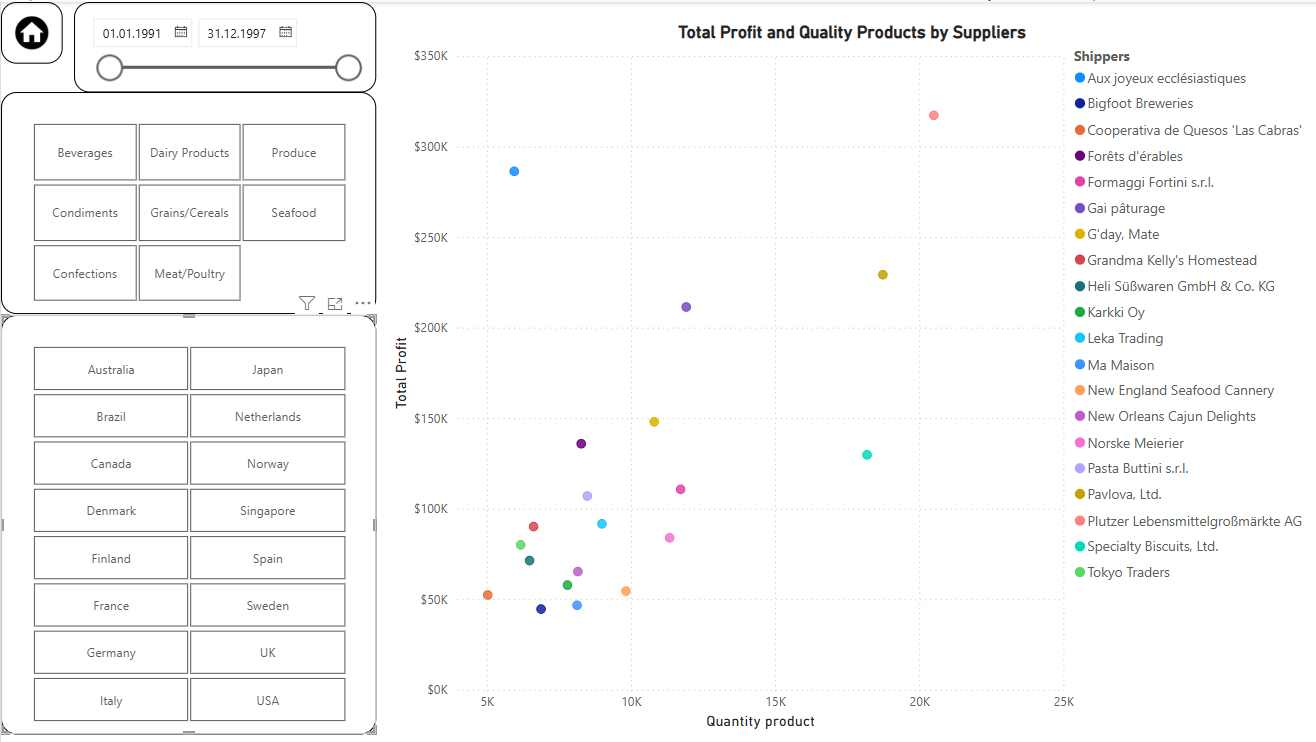

The page's visual inventory and layout, read from the dashboard file:
{"tool":"powerbi","page":{"name":"Suppliers Overview","canvas":[1280,720],"ordinal":7},"visuals":[{"type":"slicer","fields":{"Values":["Calendar.Date"]},"box":[71,0,293.7,87.5],"z":0},{"type":"slicer","fields":{"Values":["categories.category_name"]},"box":[0,87.6,364.8,216.4],"z":1000},{"type":"slicer","fields":{"Values":["suppliers.country"]},"box":[0,304,364.8,408.1],"z":2000},{"type":"scatterChart","title":"Total Profit and Quality Products by Suppliers","fields":{"Series":["suppliers.company_name"],"Y":["Nw_orders_derails_total.Total_Profit"],"X":["Nw_orders_derails_total.Sum_quantity"]},"box":[375.1,19.6,904.9,692.6],"z":3000},{"type":"image","box":[0,0,60.3,60.3],"z":4000}]}

Visuals, with their boxes on the page's 1280x720 design canvas (x1, y1, x2, y2). These are canvas units, not pixel positions in the 1316x742 screenshot, which may show the page scaled, cropped or inside an application window:
slicer - Calendar.Date: x1=71 y1=0 x2=365 y2=88
slicer - categories.category_name: x1=0 y1=88 x2=365 y2=304
slicer - suppliers.country: x1=0 y1=304 x2=365 y2=712
"Total Profit and Quality Products by Suppliers" scatterChart: x1=375 y1=20 x2=1280 y2=712
image: x1=0 y1=0 x2=60 y2=60
